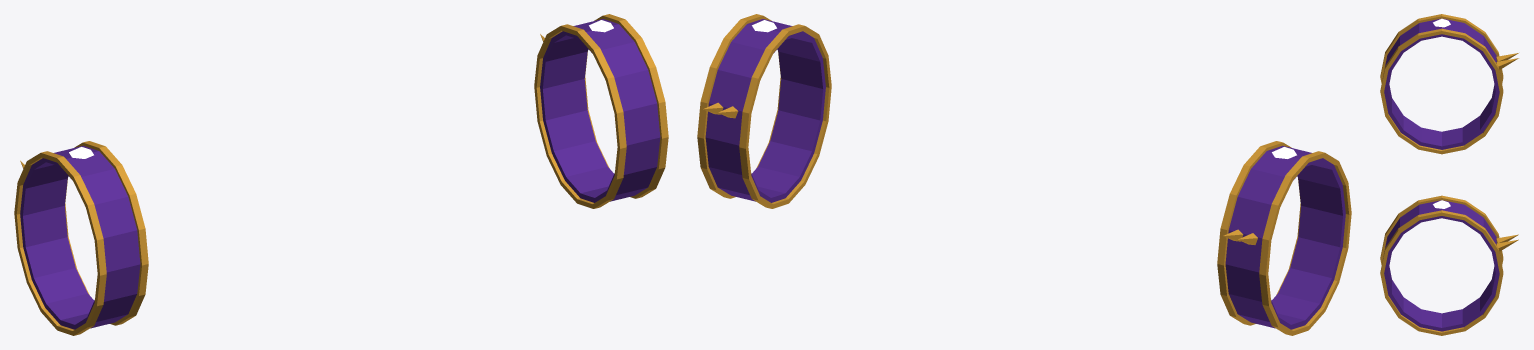
Rendered from armor_knight_arms_epic_human.glb.
3 renders of one model, left to right at view 1: azimuth 30°, elevation 25°; view 2: azimuth 150°, elevation 25°; view 3: azimuth 270°, elevation 25°, orthographic. The views are drawn at different scales.
Visible parts, largest first — view 1: armor_knight_arms_epic_human__lowerarm_r, armor_knight_arms_epic_human__lowerarm_l; view 2: armor_knight_arms_epic_human__lowerarm_l, armor_knight_arms_epic_human__lowerarm_r; view 3: armor_knight_arms_epic_human__lowerarm_l, armor_knight_arms_epic_human__lowerarm_r.
Part boxes in pixels (bbox=[...]): armor_knight_arms_epic_human__lowerarm_r: bbox=[14, 141, 148, 335]; armor_knight_arms_epic_human__lowerarm_l: bbox=[534, 14, 668, 208]; armor_knight_arms_epic_human__lowerarm_l: bbox=[697, 14, 831, 208]; armor_knight_arms_epic_human__lowerarm_r: bbox=[1217, 141, 1351, 335]; armor_knight_arms_epic_human__lowerarm_l: bbox=[1380, 195, 1518, 335]; armor_knight_arms_epic_human__lowerarm_r: bbox=[1380, 14, 1518, 154].
Size of the model in its own units: 119 by 35.5 by 35.16.
